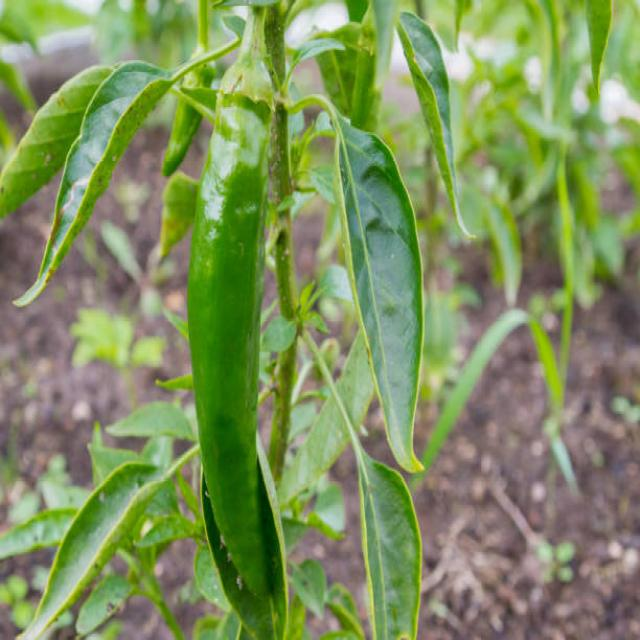Unripe: (188, 97, 278, 597)
